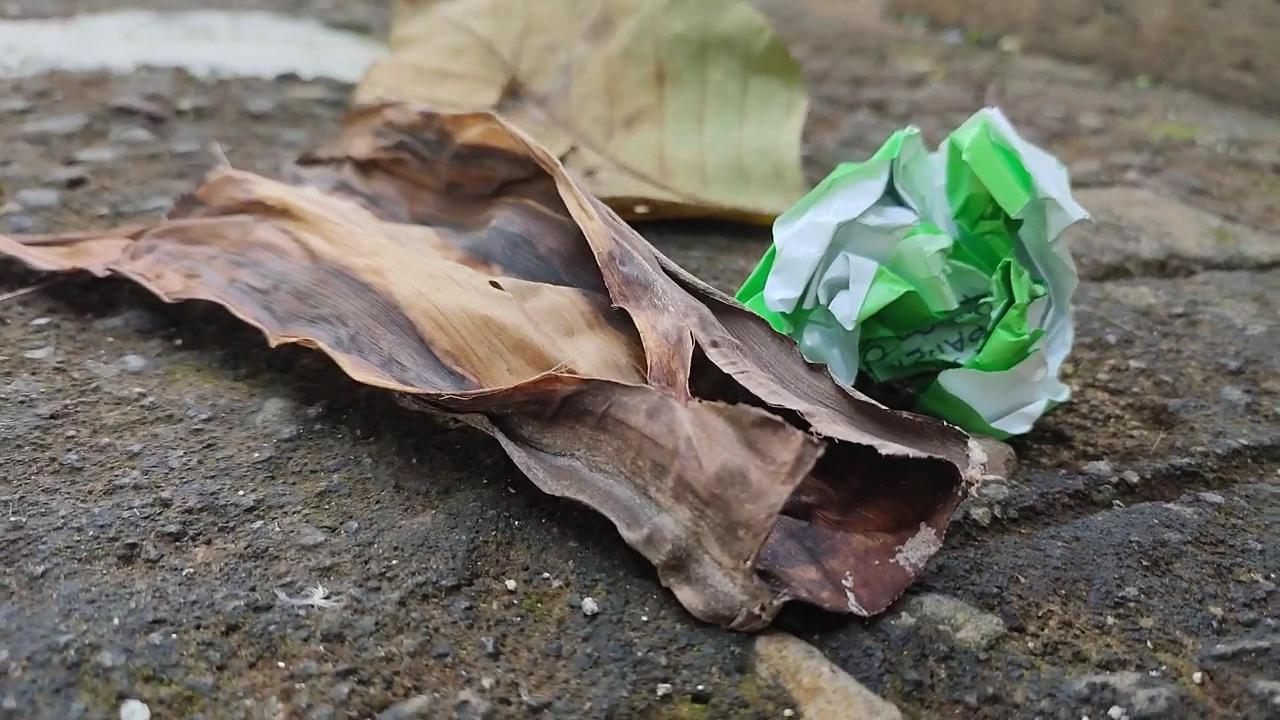Paper: (742, 88, 1100, 434)
